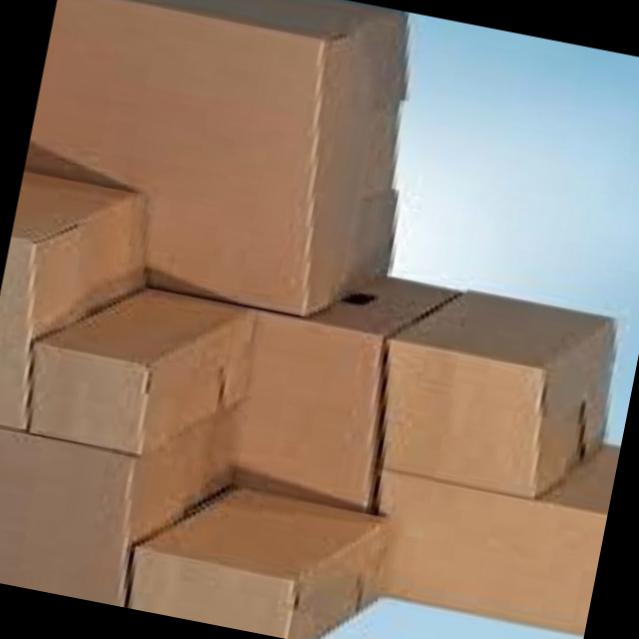cardboard paper: (24, 0, 408, 313), (384, 290, 613, 496), (379, 446, 620, 635), (31, 291, 254, 453)
